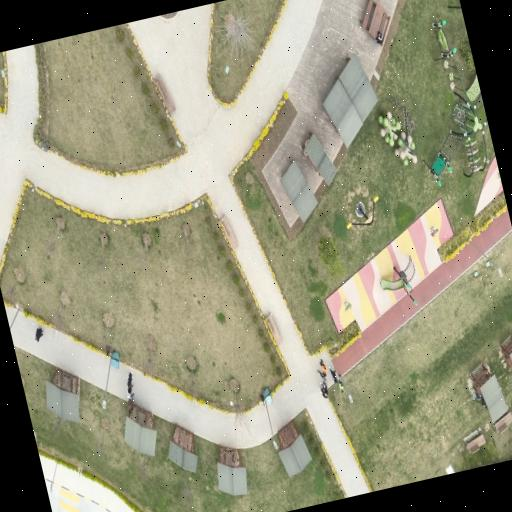person: (474, 388, 487, 409), (374, 31, 386, 48), (317, 370, 327, 384), (320, 359, 327, 375), (127, 371, 132, 392), (321, 382, 328, 397), (35, 327, 43, 340), (330, 369, 338, 381), (322, 380, 328, 396), (430, 226, 439, 236), (128, 400, 133, 416), (338, 379, 344, 392), (127, 390, 134, 401)
